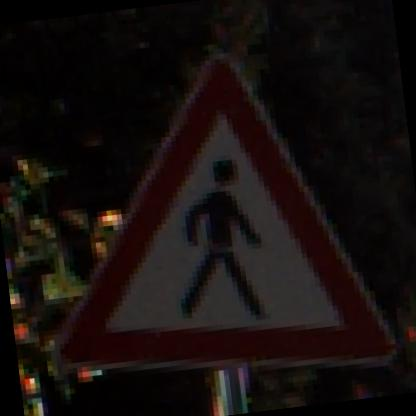crosswalk: (6, 24, 408, 414)
